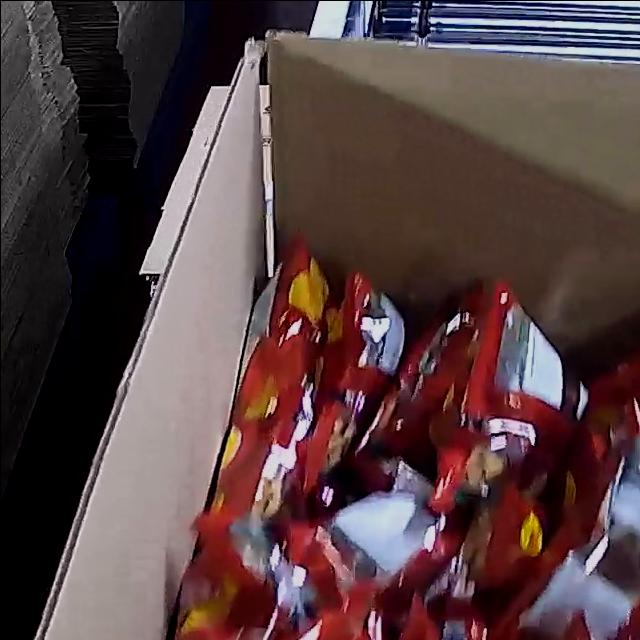masala: (139, 236, 640, 640)
